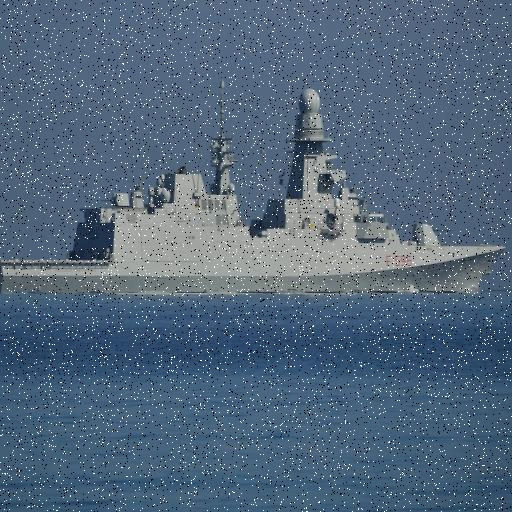Fragata: (1, 78, 511, 298)
